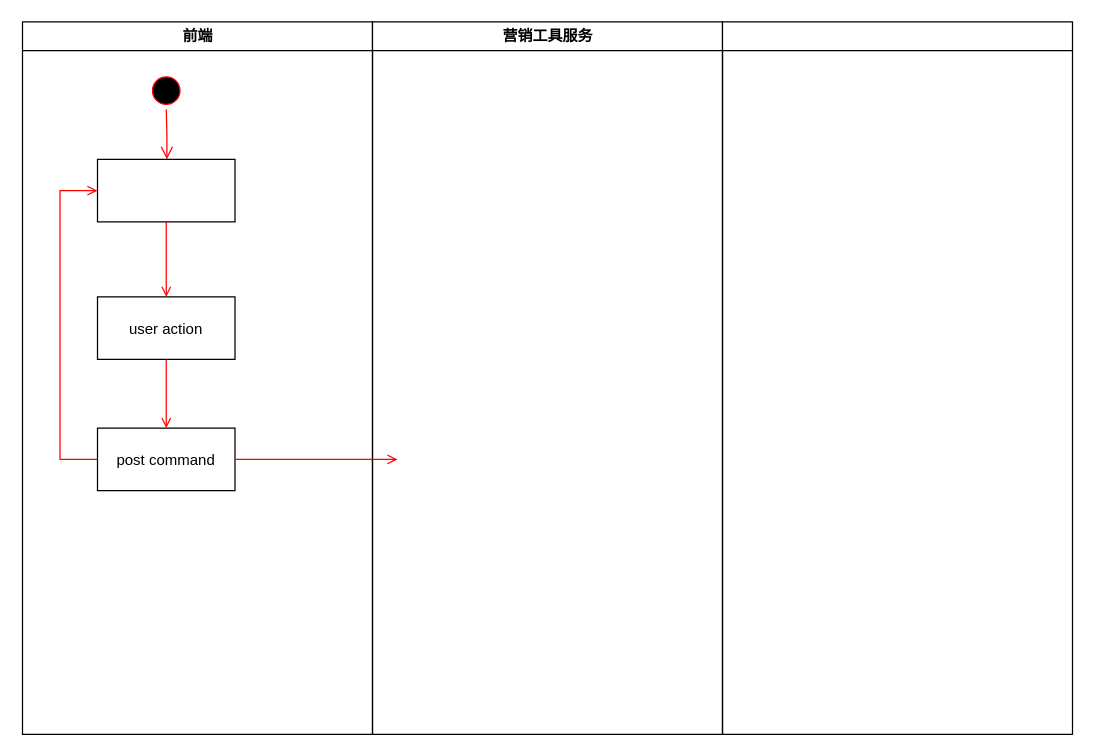
Some shapes in this 1094 by 756 pixel diagram are drawn without their labels. The shapes that lost their labels are listed below. From the top down, each one's box as (x1, y1, x2, y2) in pixels, then its label:
(96, 158, 235, 222): idle
(721, 21, 1072, 734): Thread 3
